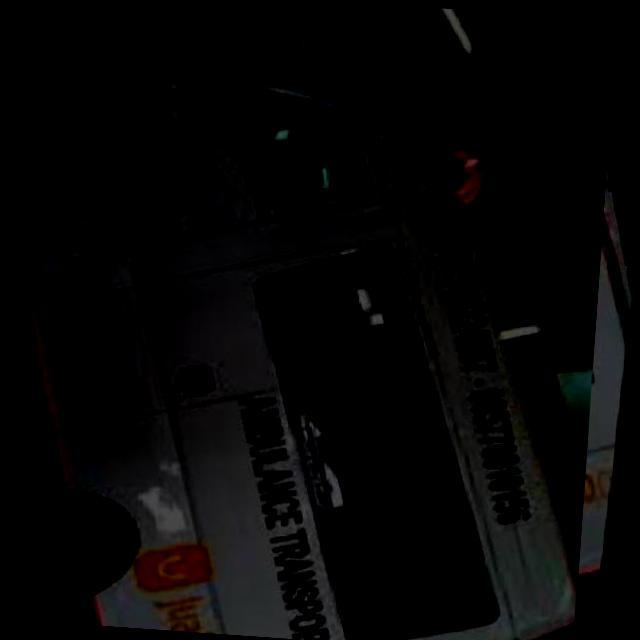emergency-vehicle: (0, 44, 633, 640)
